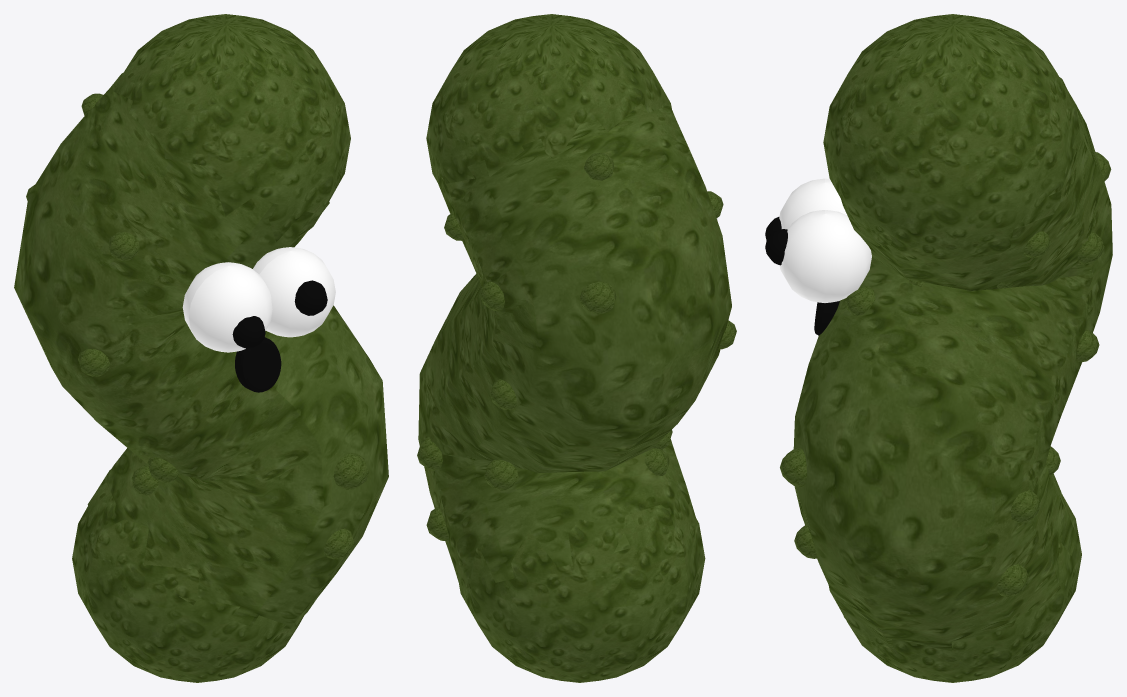
File: lavaopickle.glb
The picture shows the model from 3 angles, left to right: view 1: azimuth 30°, elevation 25°; view 2: azimuth 150°, elevation 25°; view 3: azimuth 270°, elevation 25°; orthographic projection. The views are drawn at different scales.
Visible parts, largest first — view 1: Pickle_Skin_Consolidated, Pickle_Eyes_Consolidated, Pickle_Details_Consolidated; view 2: Pickle_Skin_Consolidated; view 3: Pickle_Skin_Consolidated, Pickle_Eyes_Consolidated, Pickle_Details_Consolidated.
Part boxes in pixels (x1,y1,x2,y2): Pickle_Skin_Consolidated: [14, 14, 388, 682]; Pickle_Eyes_Consolidated: [182, 247, 335, 352]; Pickle_Details_Consolidated: [232, 280, 327, 392]; Pickle_Skin_Consolidated: [417, 14, 736, 682]; Pickle_Skin_Consolidated: [780, 14, 1112, 682]; Pickle_Eyes_Consolidated: [779, 178, 871, 302]; Pickle_Details_Consolidated: [765, 217, 839, 335].
Size of the model in its own units: 0.2592 by 0.51 by 0.2431.
3 materials, 1 textured.
